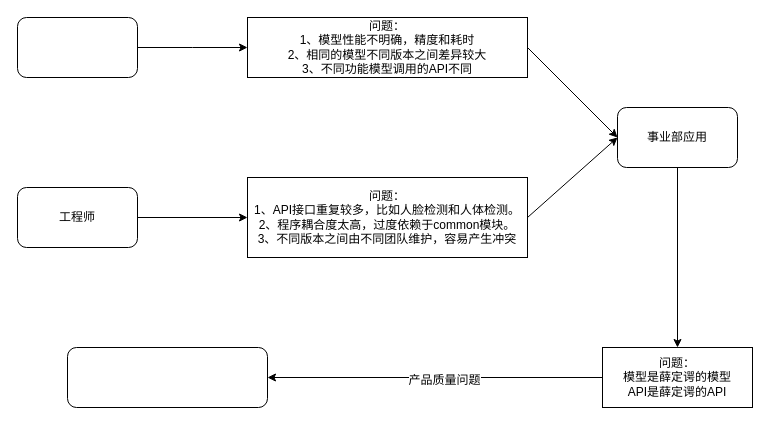
This 770x425 diagram has some shape labels left out. Here are the shapes that lost their labels. From the top down, the box of each, then its label:
(16, 16, 138, 78): 研究员
(66, 346, 268, 408): 1、检测识别率性能不足。 2、训练集上和实际项目中表现差异较大
